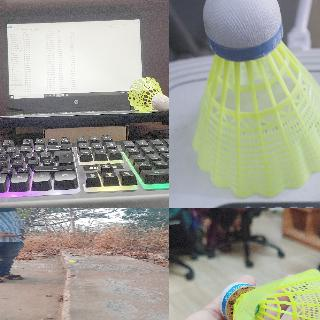shuttlecock: (190, 0, 319, 199), (218, 264, 319, 319), (127, 76, 168, 111), (68, 260, 79, 262)
